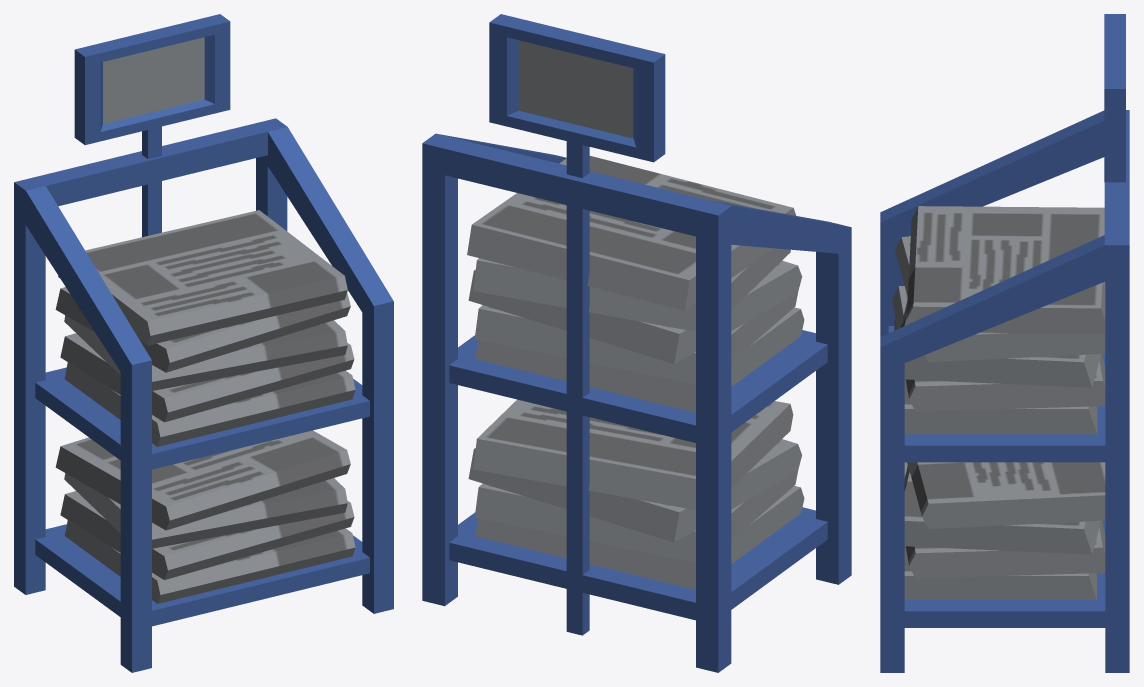
Rendered from SM_Prop_Newspaper_02.fbx.
The picture shows the model from 3 angles, left to right: view 1: azimuth 30°, elevation 25°; view 2: azimuth 150°, elevation 25°; view 3: azimuth 270°, elevation 25°; orthographic projection. The views are drawn at different scales.
Parts seen in each view (by area): view 1: SM_Prop_Newspaper_02; view 2: SM_Prop_Newspaper_02; view 3: SM_Prop_Newspaper_02.
Boxes of the visible parts, x1,y1,x2,y2 form: SM_Prop_Newspaper_02: [14, 14, 393, 672]; SM_Prop_Newspaper_02: [422, 14, 851, 672]; SM_Prop_Newspaper_02: [880, 14, 1129, 672].
Size of the model in its own units: 61.27 by 117 by 47.78.
